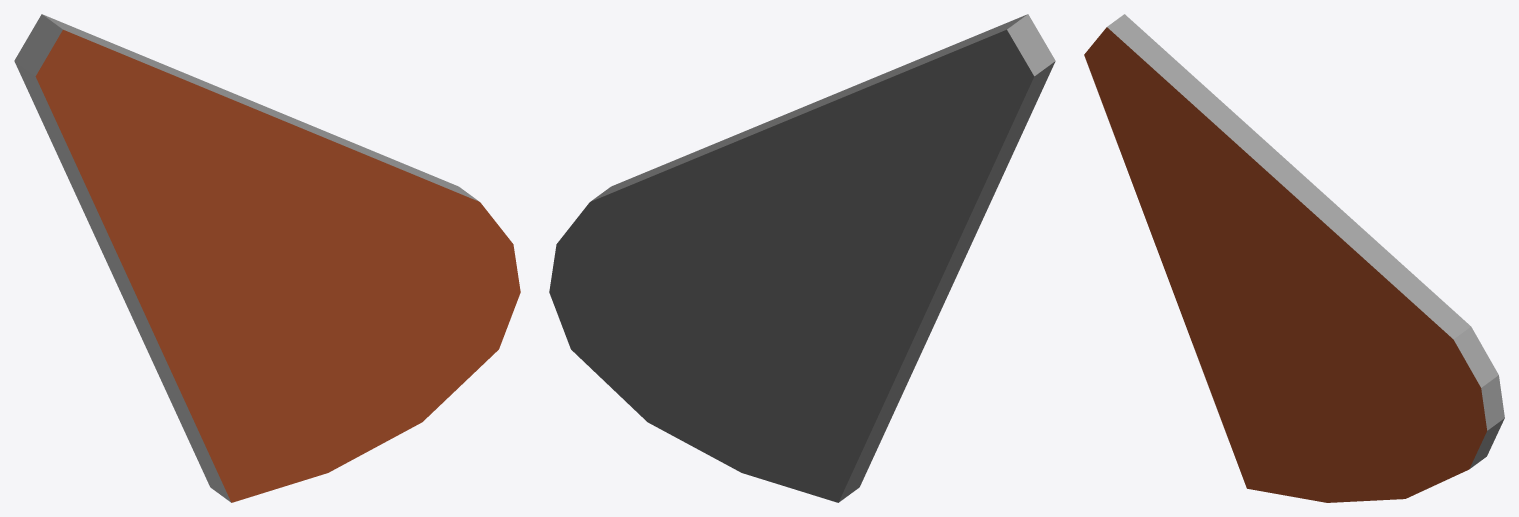
File: construction_0098_assumed_A_Grande_construcao_h6m.obj
3 views of the same model, side by side, from view 1: azimuth 30°, elevation 25°; view 2: azimuth 150°, elevation 25°; view 3: azimuth 330°, elevation 25° (orthographic). The views are drawn at different scales.
Visible parts, largest first — view 1: construction_0098_assumed_A_Grande_construcao; view 2: construction_0098_assumed_A_Grande_construcao; view 3: construction_0098_assumed_A_Grande_construcao.
Part boxes in pixels (bbox=[...]): construction_0098_assumed_A_Grande_construcao: bbox=[14, 14, 520, 502]; construction_0098_assumed_A_Grande_construcao: bbox=[549, 14, 1055, 502]; construction_0098_assumed_A_Grande_construcao: bbox=[1084, 14, 1504, 502].
Bounding box in the file's own units: 78.8 × 79.85 × 6.
